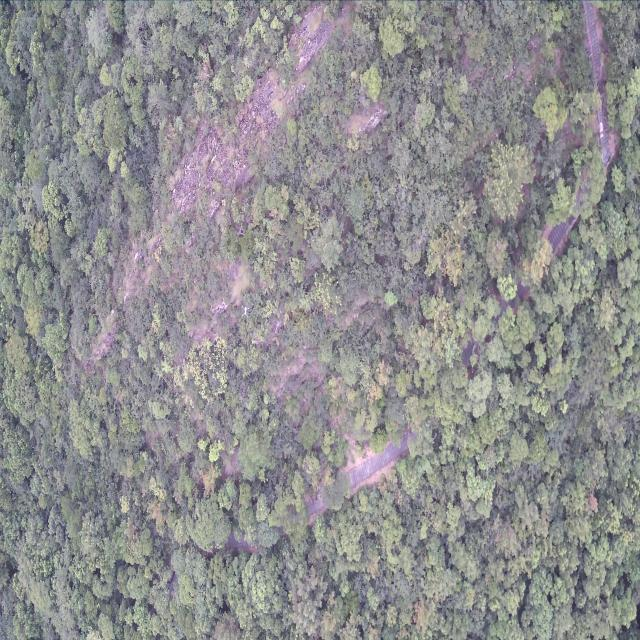drone: (242, 306, 250, 317)
